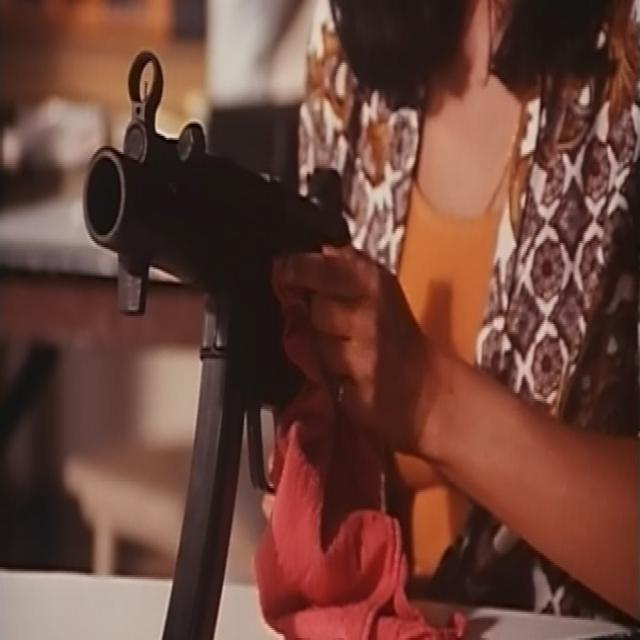rifle: (80, 47, 350, 640)
